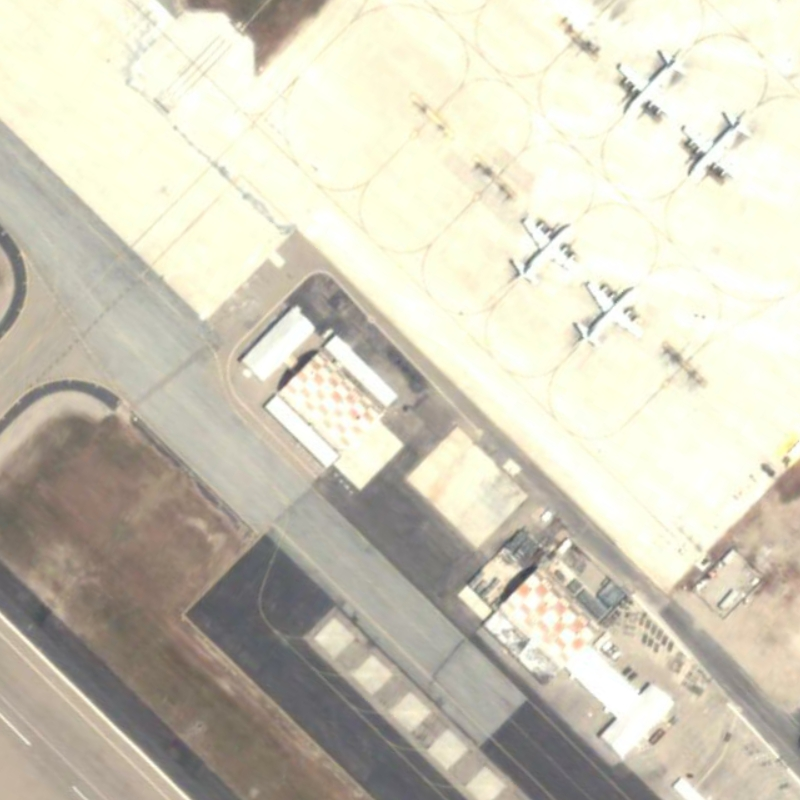A9: (614, 46, 695, 124), (501, 209, 582, 286), (679, 106, 754, 186), (570, 279, 648, 351)
